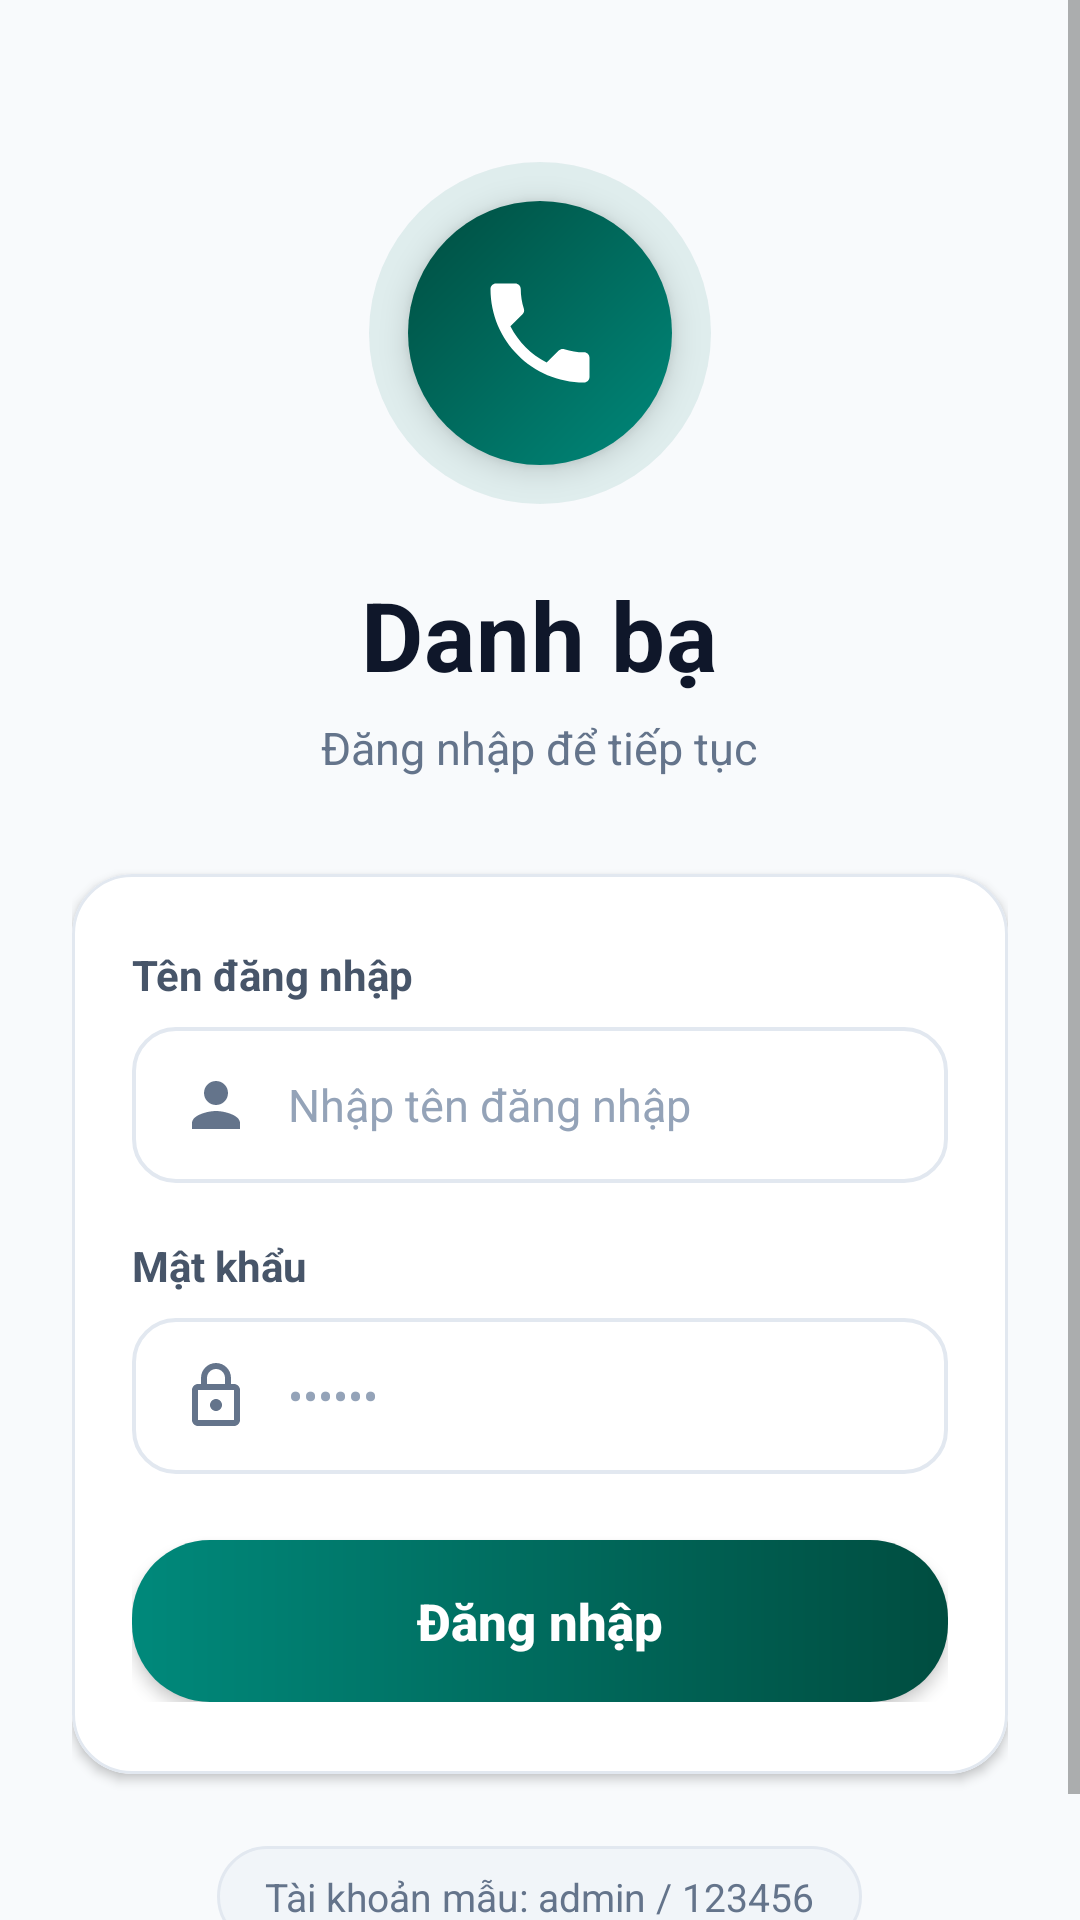

Screen size 1080px x 1920px. Icon name, then its box in pixels as (x1, y1, x2, y2):
Danh bạ: (490, 283, 590, 383)
